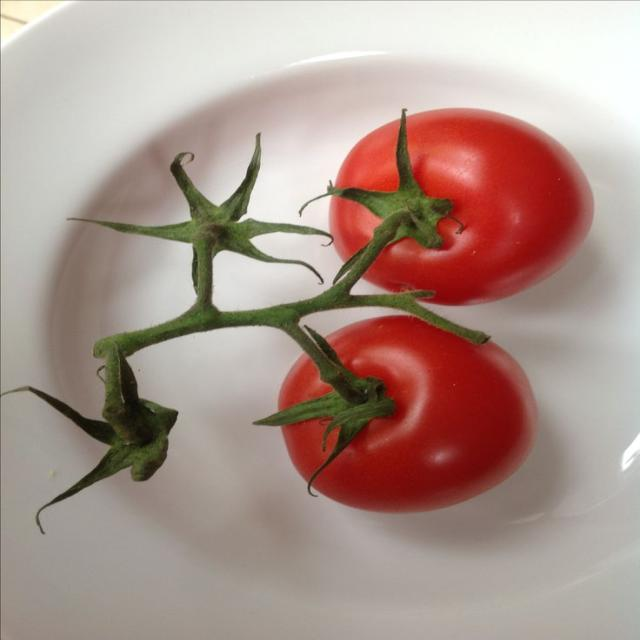tomato: (365, 109, 593, 304), (314, 316, 537, 511)
